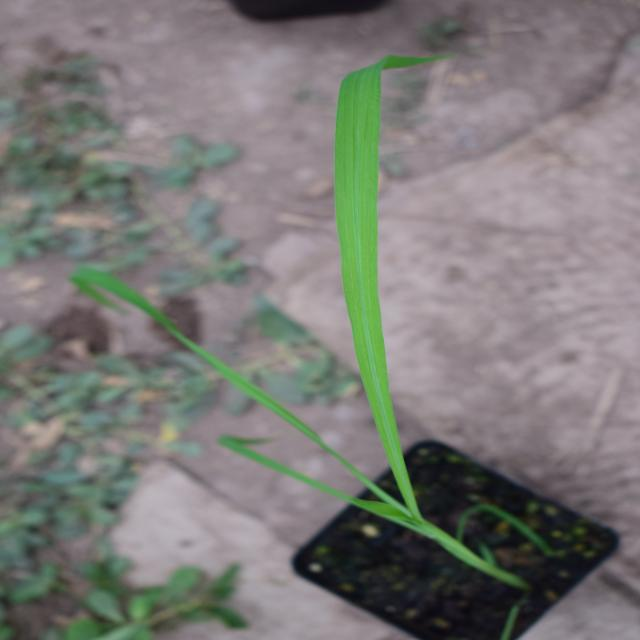barnyard_grass: (87, 82, 599, 506)
